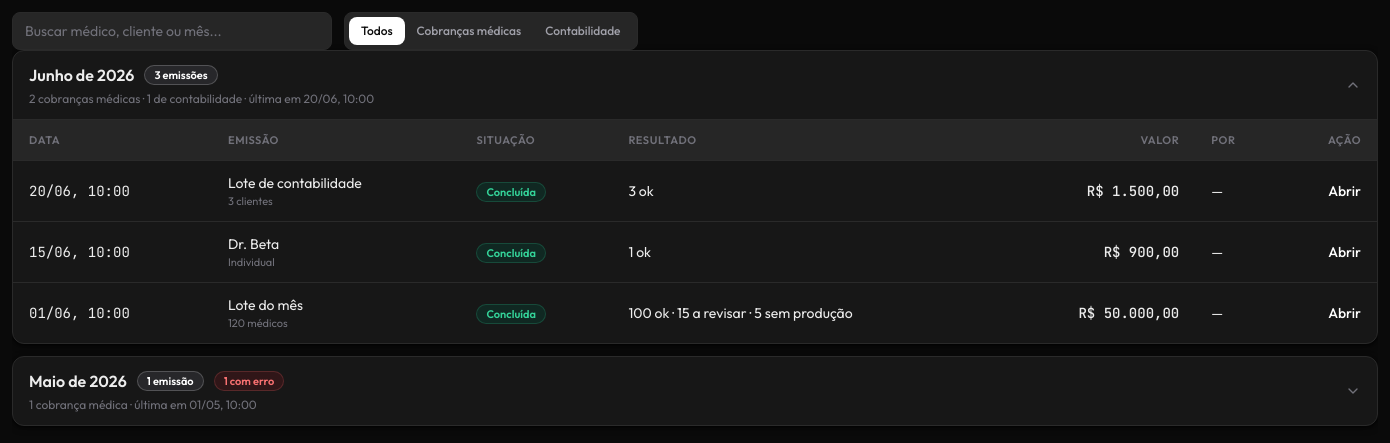
Test: HistoricoExecucoes › busca pelo nome do mês filtra os grupos
expect the button "Maio de 2026" is shown: met, box [13,357,1377,425]
Type "junho" into the search field labelled "Buscar médico, cliente ou mês" at (172, 31), box [12,12,332,50]
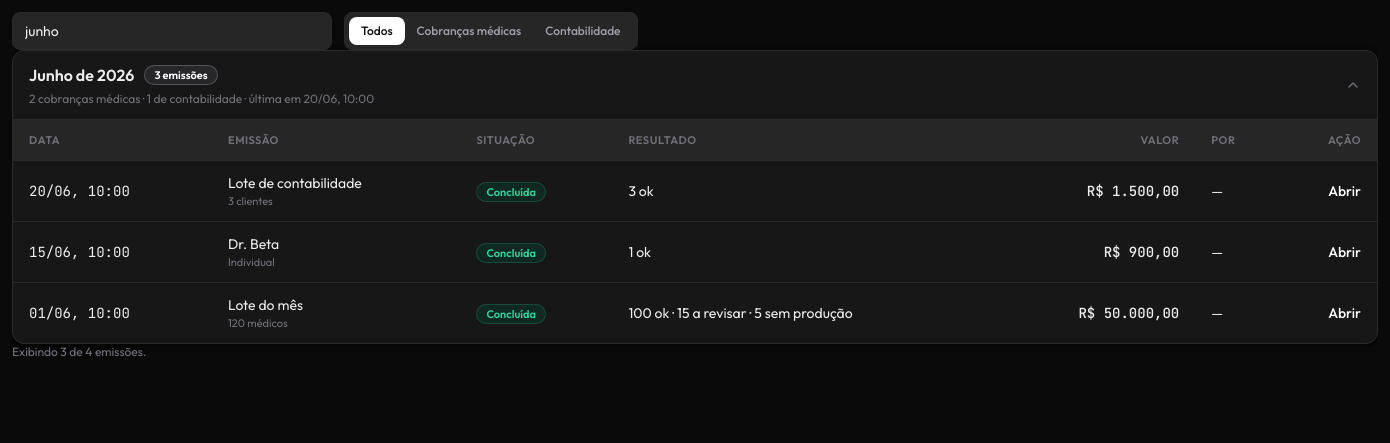
expect the button "Junho de 2026" is shown: met, box [13,51,1377,119]
expect the button "Maio de 2026" is gone: met
